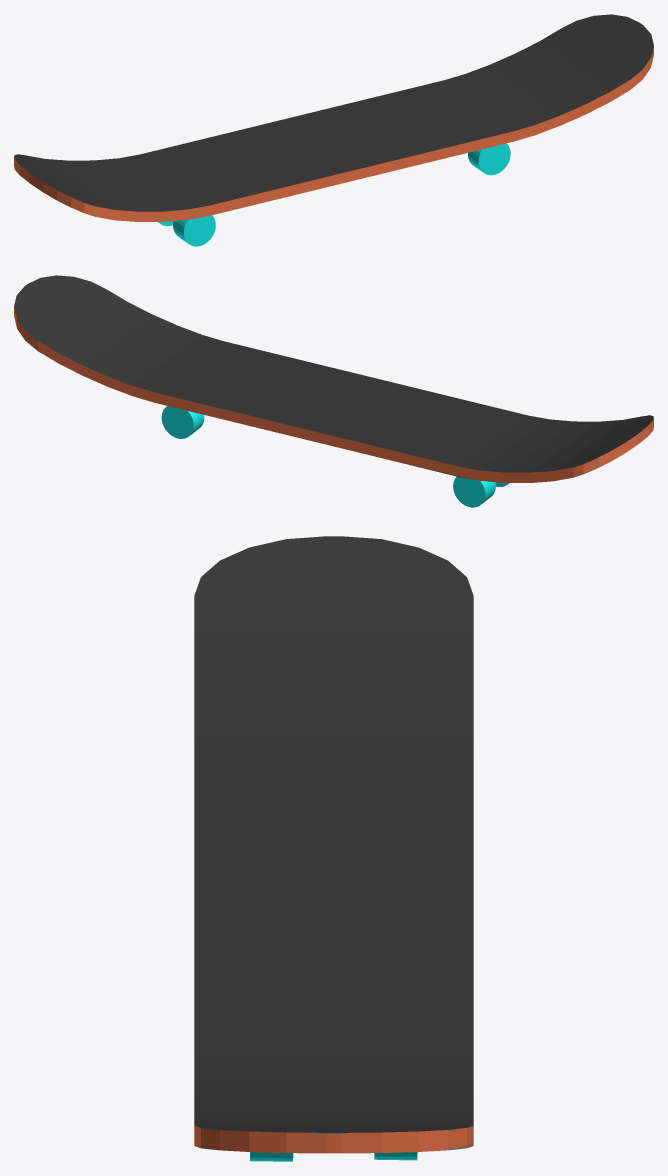
The model's file is SuckItUpSkateboardFinal.fbx.
3 renders of one model, top to bottom at view 1: azimuth 30°, elevation 25°; view 2: azimuth 150°, elevation 25°; view 3: azimuth 270°, elevation 25°, orthographic. The views are drawn at different scales.
Visible parts, largest first — view 1: Plane, Cylinder.002; view 2: Plane, Cylinder.002; view 3: Plane.
Part boxes in pixels (bbox=[...]): Plane: bbox=[14, 14, 653, 221]; Cylinder.002: bbox=[158, 143, 510, 246]; Plane: bbox=[14, 275, 653, 482]; Cylinder.002: bbox=[161, 406, 509, 507]; Plane: bbox=[194, 536, 473, 1153].
Size of the model in its own units: 399 by 60.01 by 78.93.
